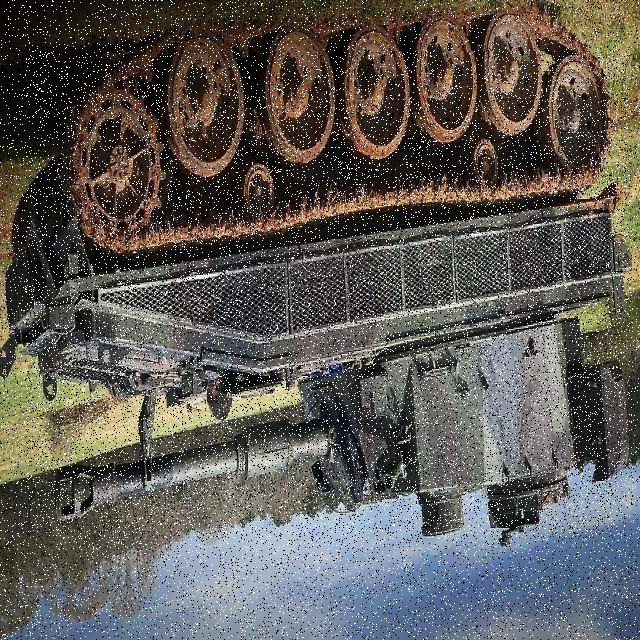MIL_MBT: (25, 51, 632, 537)
